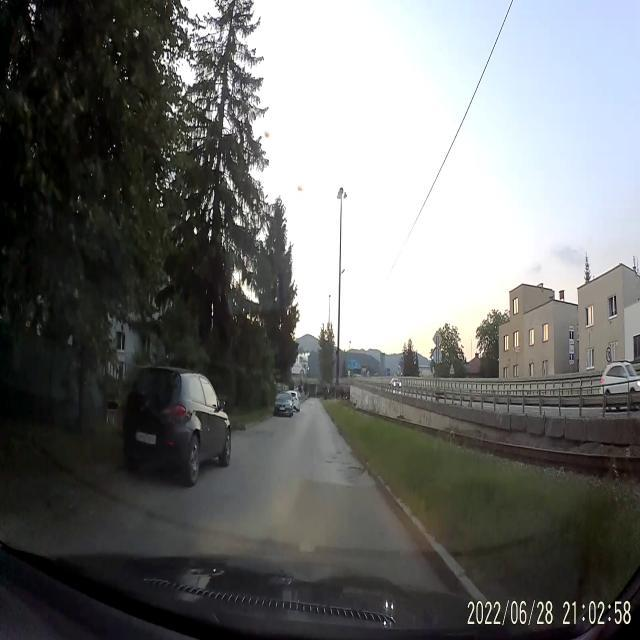Pothole: (342, 462, 364, 486)
